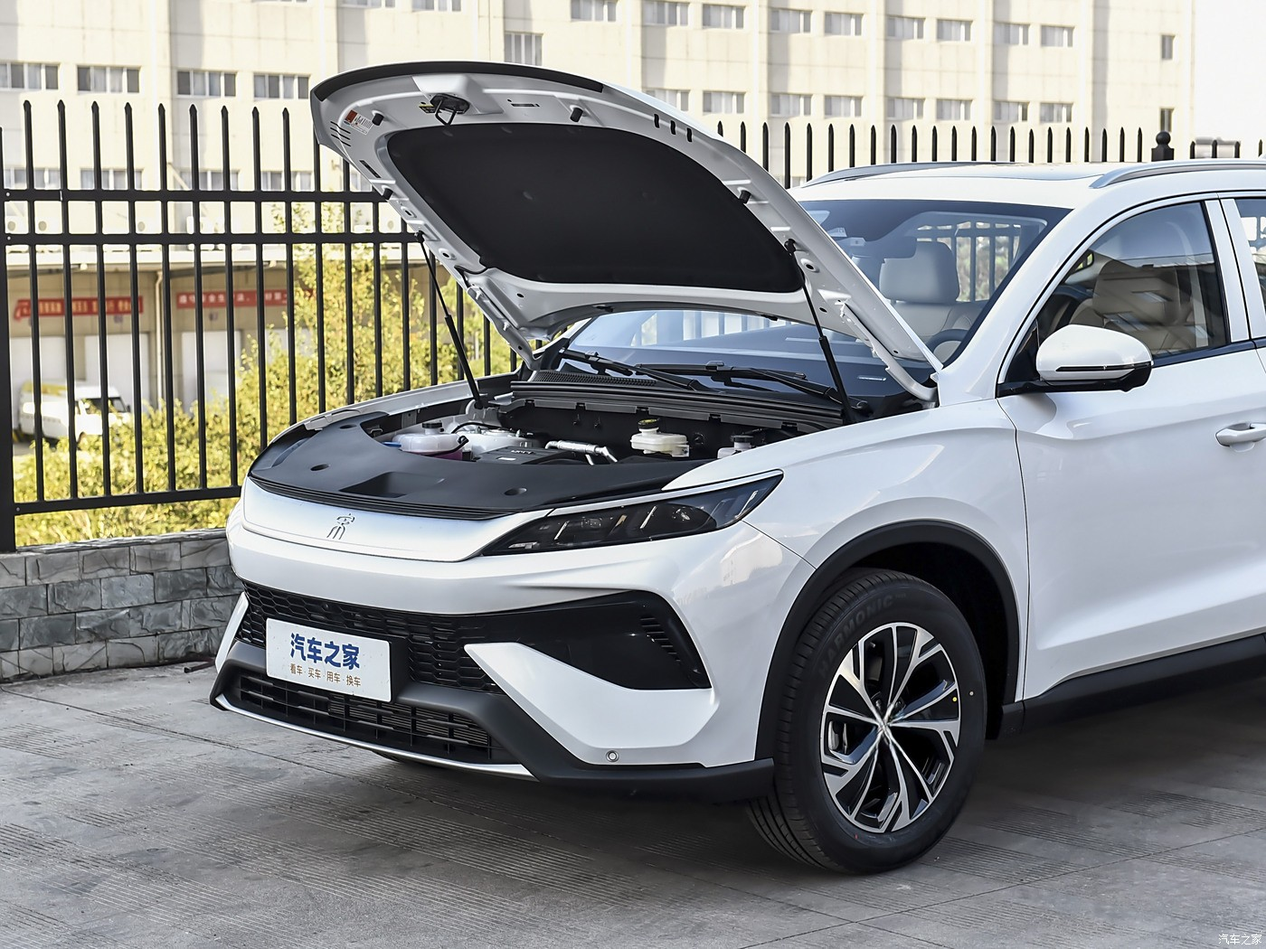BYD Song: (326, 513, 354, 540)
